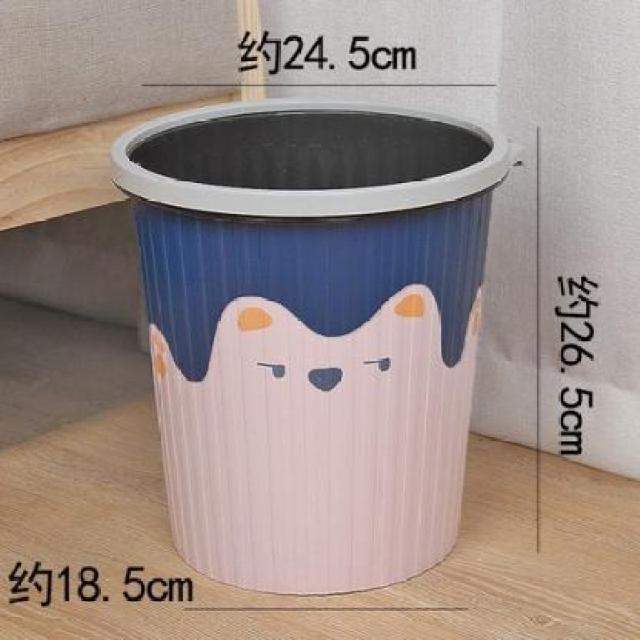dustbin: (108, 94, 528, 598)
